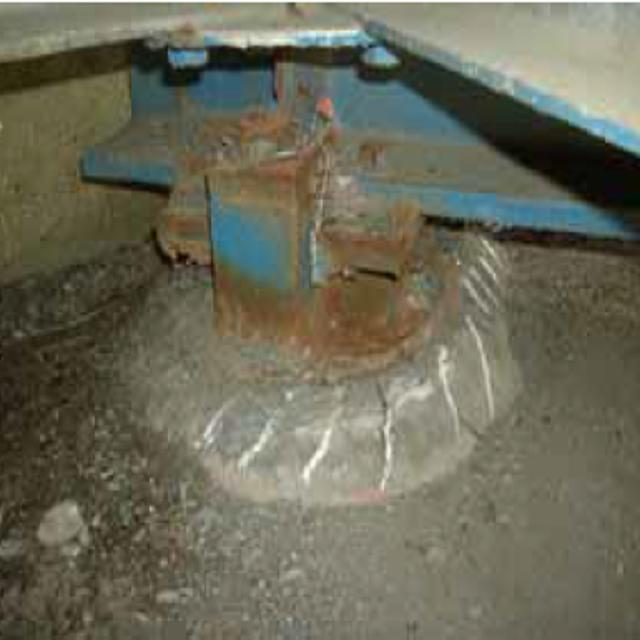corrosion: (87, 96, 456, 367)
